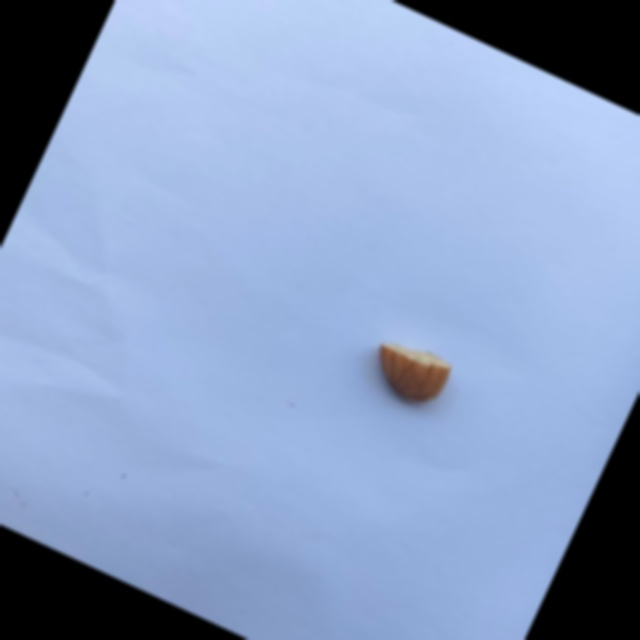grade4: (354, 325, 463, 420)
